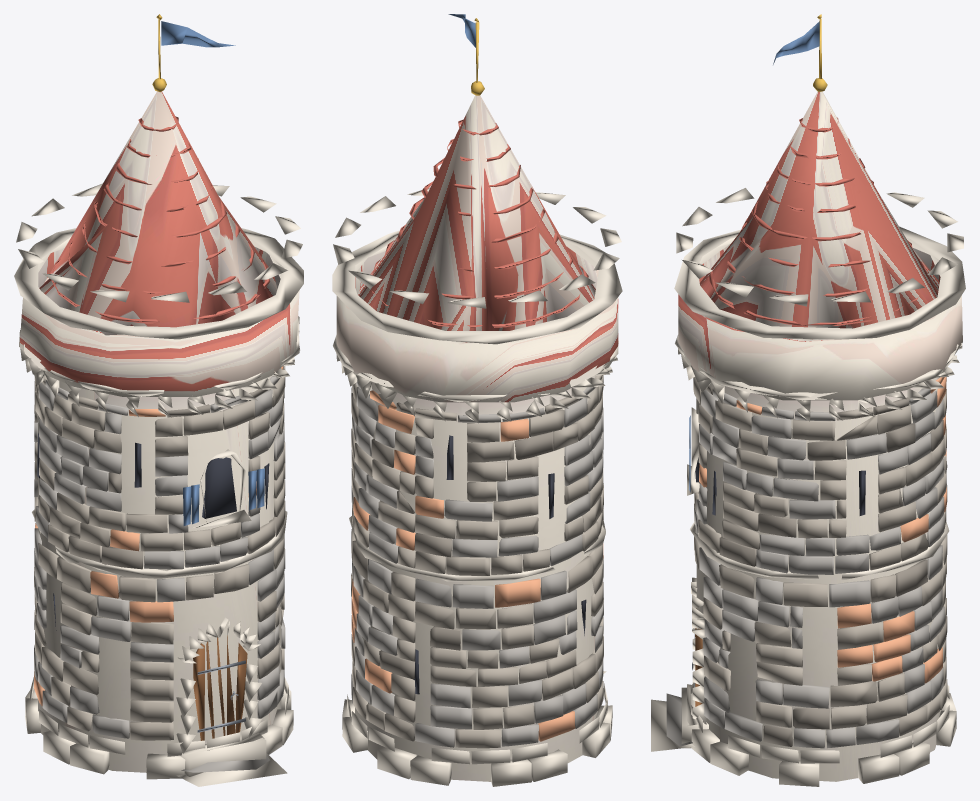
3 views of the same model, side by side, from view 1: azimuth 30°, elevation 25°; view 2: azimuth 150°, elevation 25°; view 3: azimuth 270°, elevation 25° (orthographic).
Visible parts, largest first — view 1: castle-tower_details, castle-tower_body, castle-tower_stonework; view 2: castle-tower_details, castle-tower_body, castle-tower_stonework; view 3: castle-tower_details, castle-tower_body, castle-tower_stonework.
Part boxes in pixels (left/top/right/bottom): castle-tower_details: left=14, top=14, right=303, bottom=786; castle-tower_body: left=19, top=91, right=299, bottom=772; castle-tower_stonework: left=34, top=366, right=283, bottom=705; castle-tower_details: left=332, top=14, right=622, bottom=786; castle-tower_body: left=336, top=95, right=618, bottom=781; castle-tower_stonework: left=351, top=390, right=603, bottom=741; castle-tower_details: left=651, top=14, right=965, bottom=786; castle-tower_body: left=678, top=91, right=962, bottom=781; castle-tower_stonework: left=699, top=377, right=946, bottom=683.
Bounding box in the file's own units: 6.11 × 16.54 × 6.59.
Materials: 13 (1 with a texture image).
